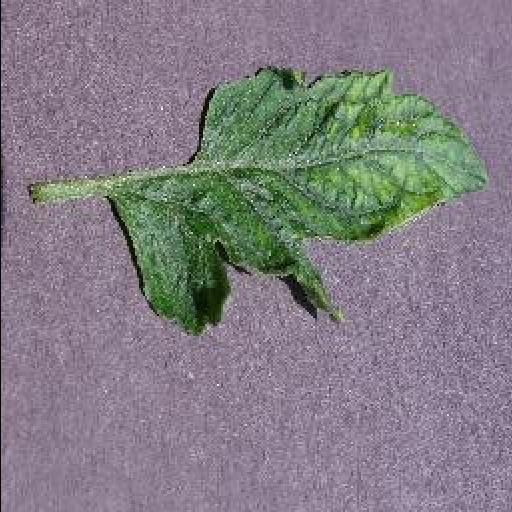disease_tomato: (106, 68, 492, 340)
